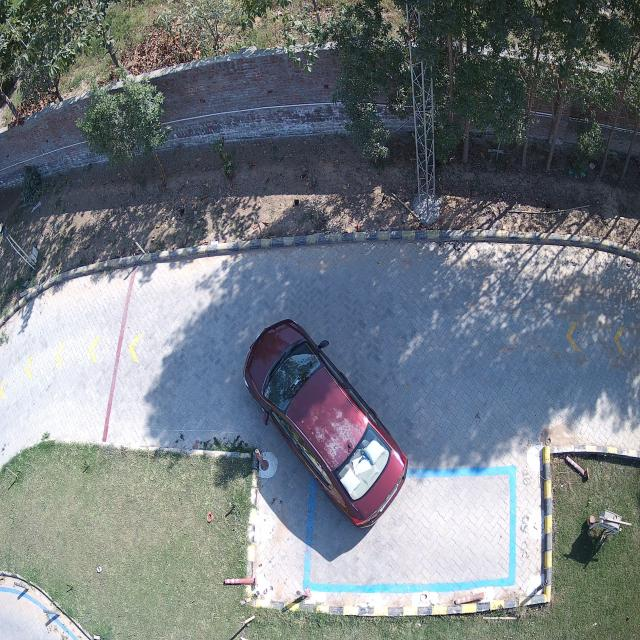car: (244, 320, 408, 527)
